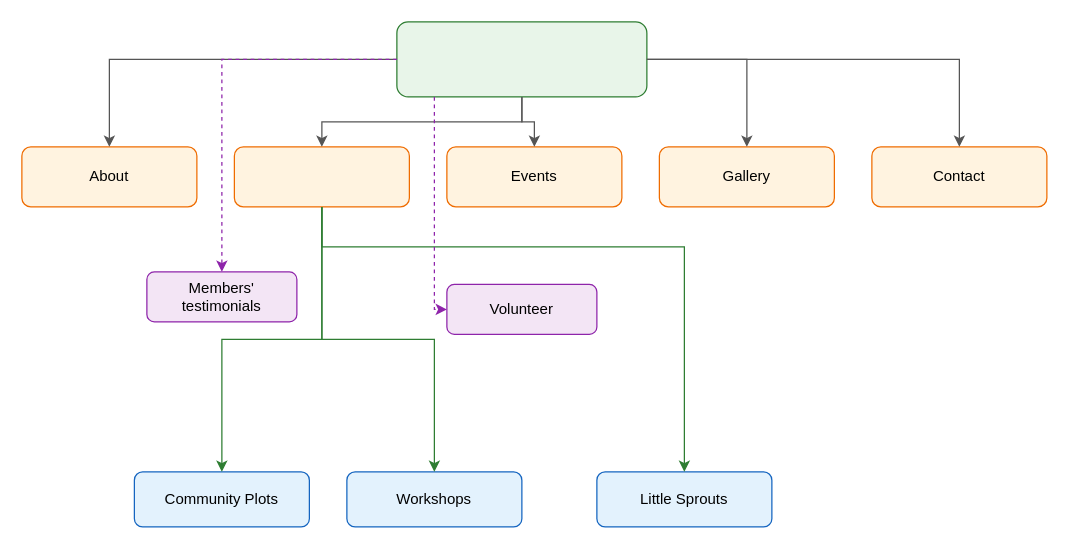
Some shapes in this 1069 by 549 pixel diagram are drawn without their labels. The box of each missing label's shape, as (x1, y1, x2, y2) in pixels:
Home (index.html): (396, 21, 647, 97)
Programmes: (233, 146, 409, 207)
